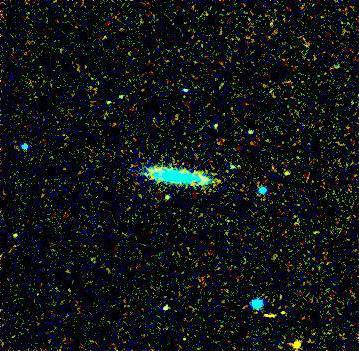star: (281, 329, 311, 351)
